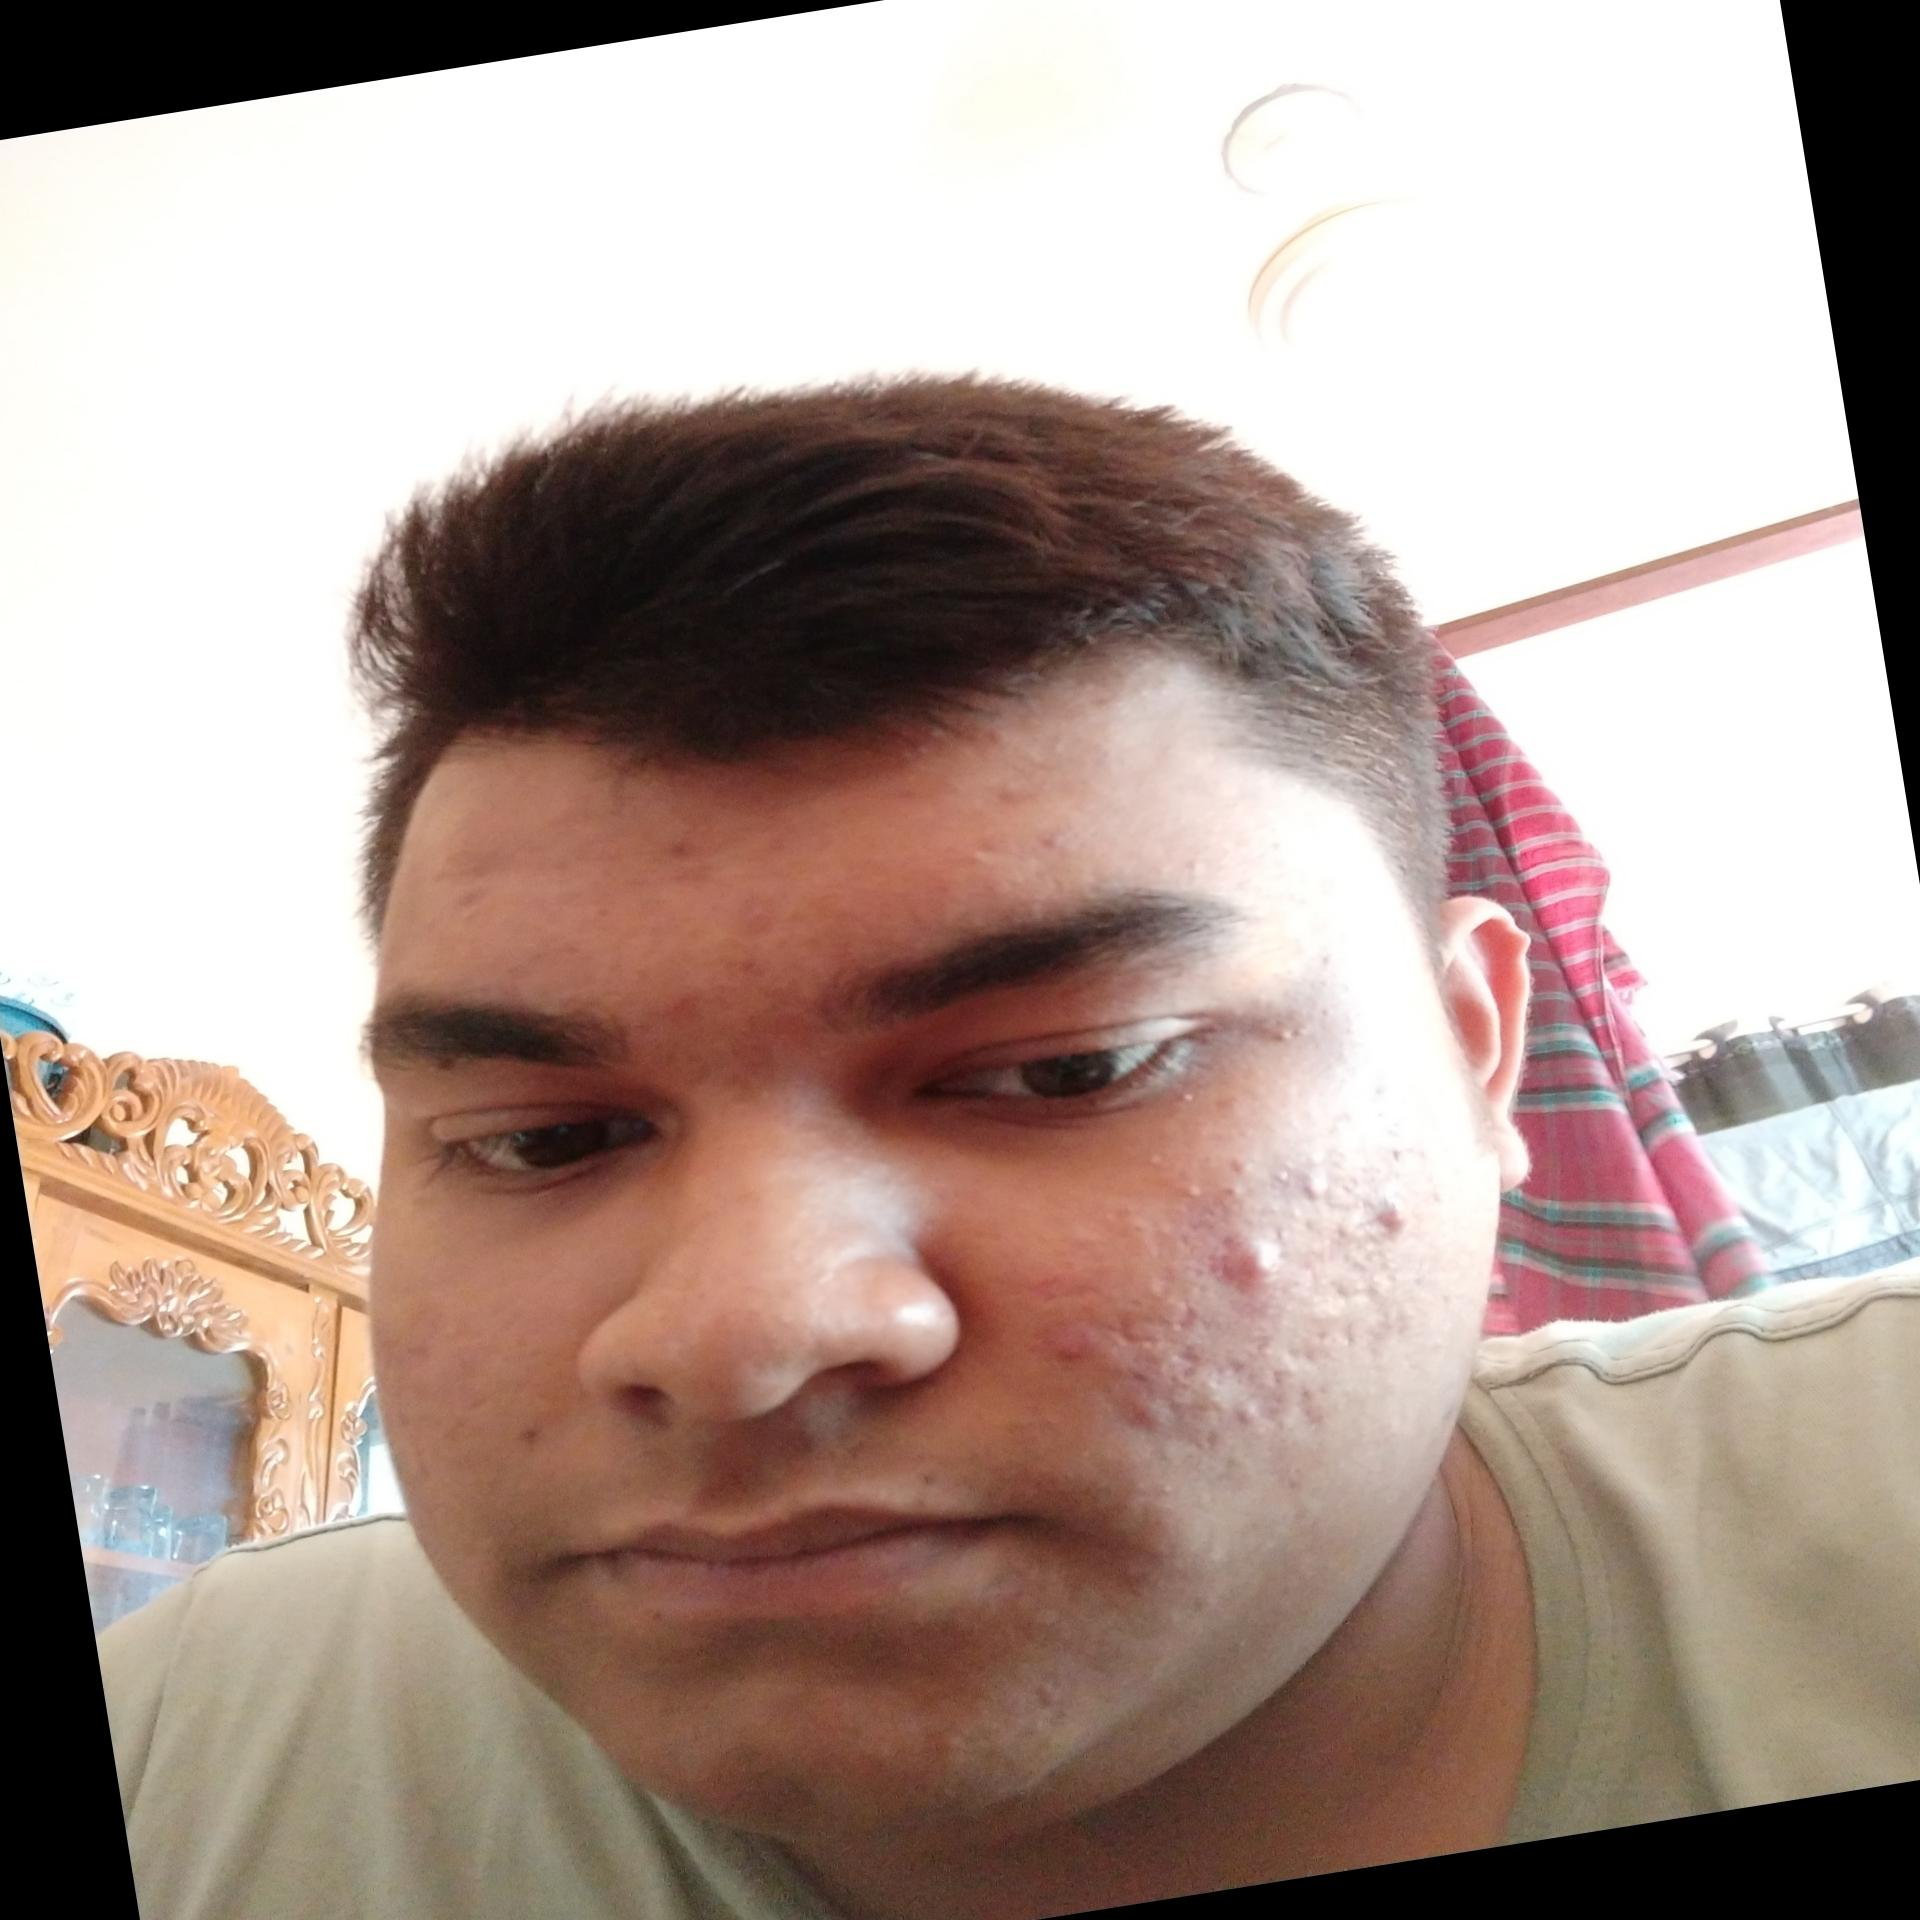Acne: (1289, 1262, 1412, 1329), (1206, 1224, 1294, 1292), (1342, 1190, 1433, 1247), (1006, 1261, 1122, 1305), (649, 972, 730, 1025), (695, 1762, 754, 1830), (976, 767, 1041, 823), (962, 833, 1044, 874), (874, 772, 951, 814), (1036, 1331, 1104, 1373), (749, 826, 814, 870), (1108, 1387, 1169, 1433), (1011, 1672, 1062, 1723), (654, 830, 710, 872), (1217, 1391, 1271, 1433), (1266, 1020, 1329, 1053), (930, 1721, 978, 1765), (717, 949, 767, 988), (503, 1417, 554, 1452), (1287, 1169, 1333, 1197), (979, 719, 1013, 751), (1224, 1155, 1261, 1180)
Englarged Pores: (1073, 1143, 1442, 1459), (375, 1299, 538, 1475)
Wrinkles: (427, 818, 714, 904)
